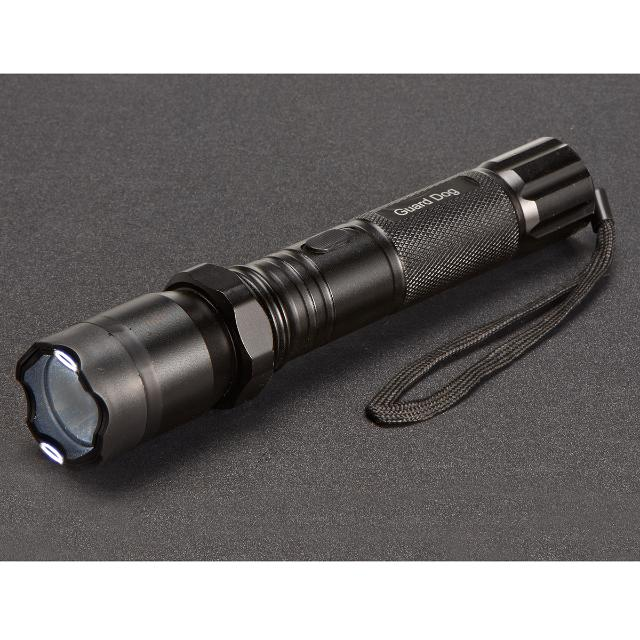Flashlight: (6, 122, 624, 480)
